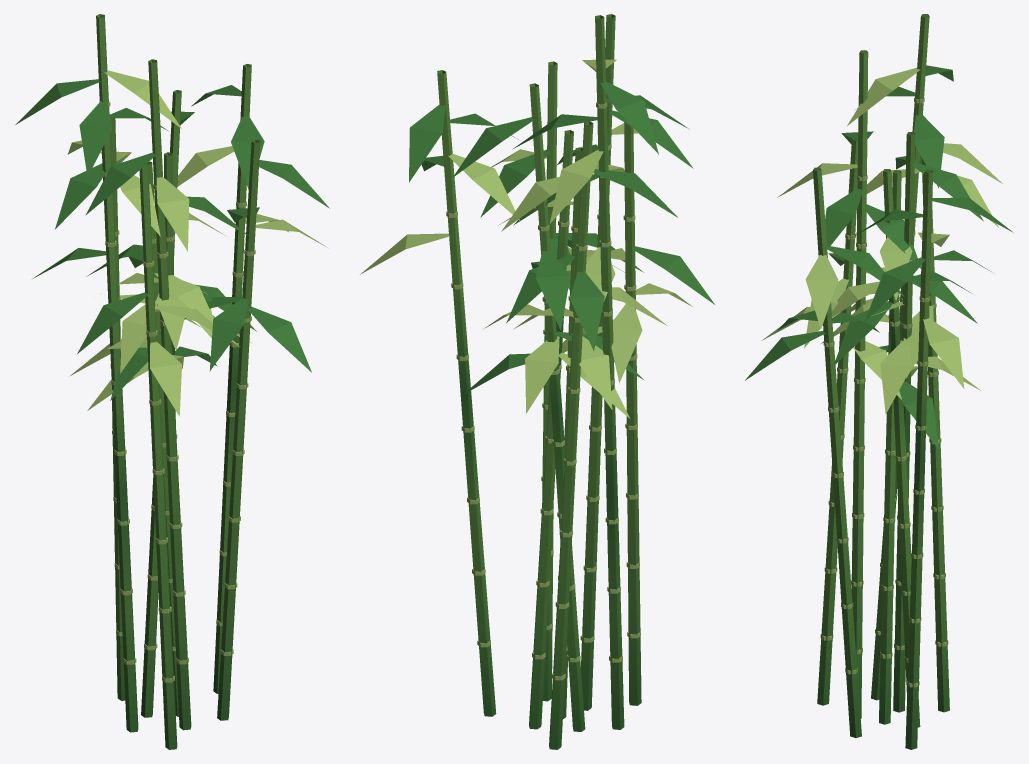
The model's file is bamboo_cluster.glb.
3 renders of one model, left to right at view 1: azimuth 30°, elevation 25°; view 2: azimuth 150°, elevation 25°; view 3: azimuth 270°, elevation 25°, orthographic. The views are drawn at different scales.
Parts seen in each view (by area): view 1: Bamboo; view 2: Bamboo; view 3: Bamboo.
Part boxes in pixels (x1,y1,x2,y2): Bamboo: (15, 14, 329, 749); Bamboo: (360, 14, 714, 749); Bamboo: (745, 14, 1013, 749).
Bounding box in the file's own units: 4.31 × 10.24 × 3.7.
